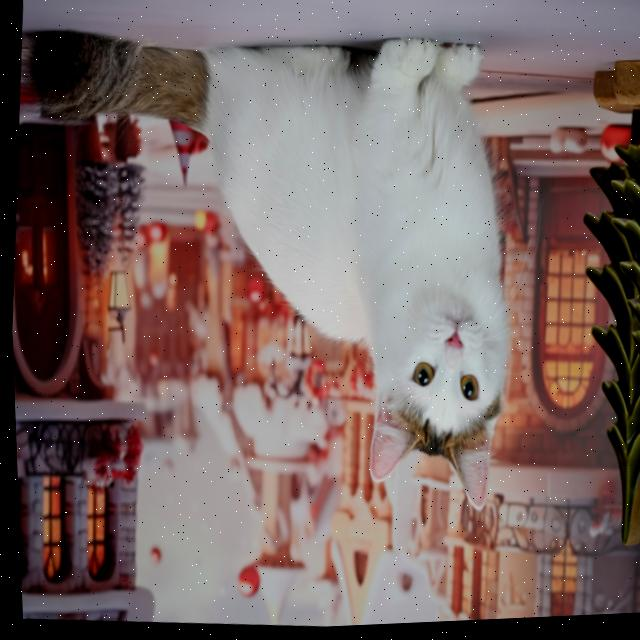Munchkin: (1, 1, 538, 535)
